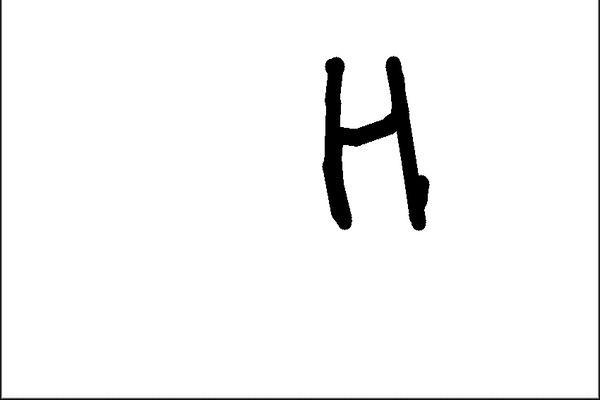H: (307, 47, 433, 233)
